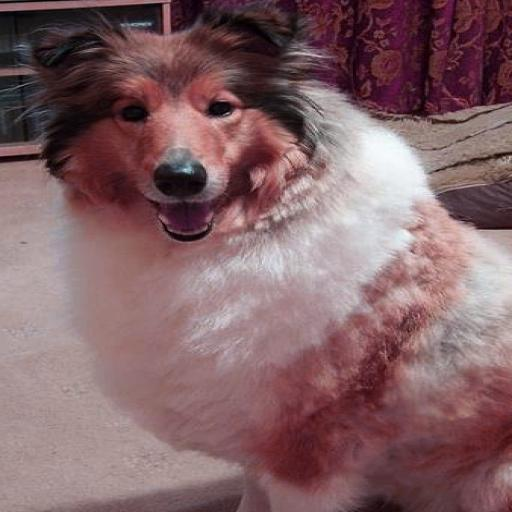dog_face: (44, 11, 303, 244)
